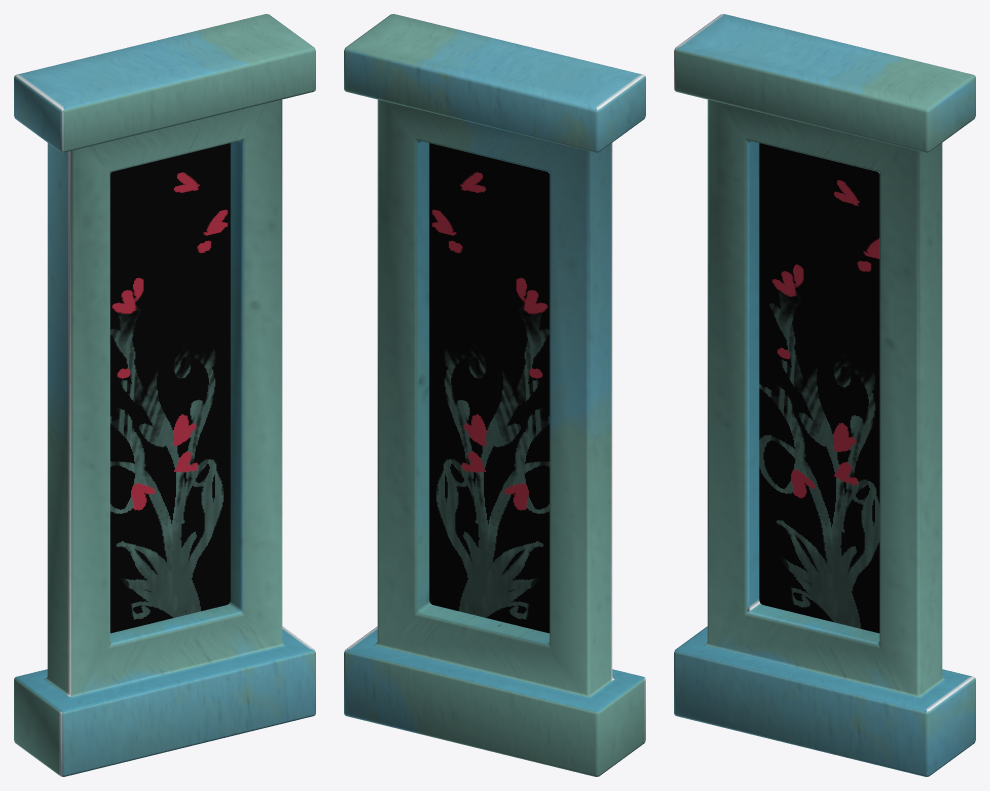
The model's file is TOMB_WINDOW_1_001.obj.
3 renders of one model, left to right at view 1: azimuth 30°, elevation 25°; view 2: azimuth 150°, elevation 25°; view 3: azimuth 330°, elevation 25°, orthographic.
Visible parts, largest first — view 1: TOMB_WINDOW_1_001; view 2: TOMB_WINDOW_1_001; view 3: TOMB_WINDOW_1_001.
Part boxes in pixels (left/top/right/bottom): TOMB_WINDOW_1_001: left=14, top=14, right=315, bottom=776; TOMB_WINDOW_1_001: left=344, top=14, right=645, bottom=776; TOMB_WINDOW_1_001: left=674, top=14, right=975, bottom=776.
Size of the model in its own units: 1.2 by 3 by 0.4.
